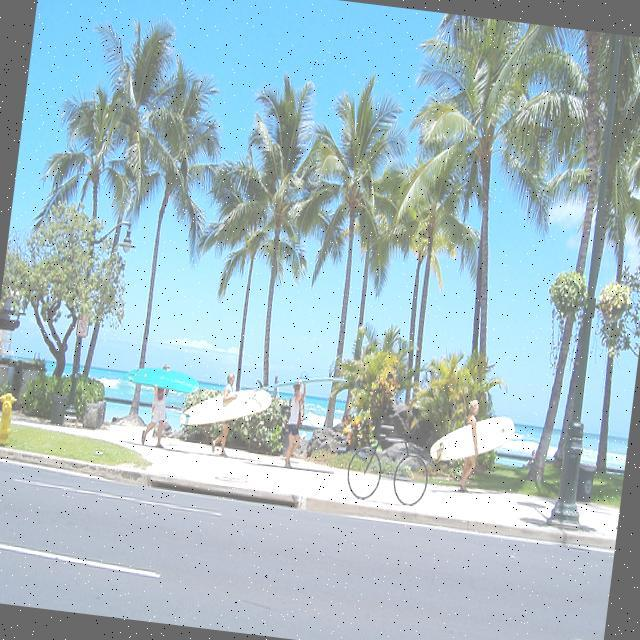fire_hydrant: (546, 420, 594, 530), (0, 390, 17, 443)
